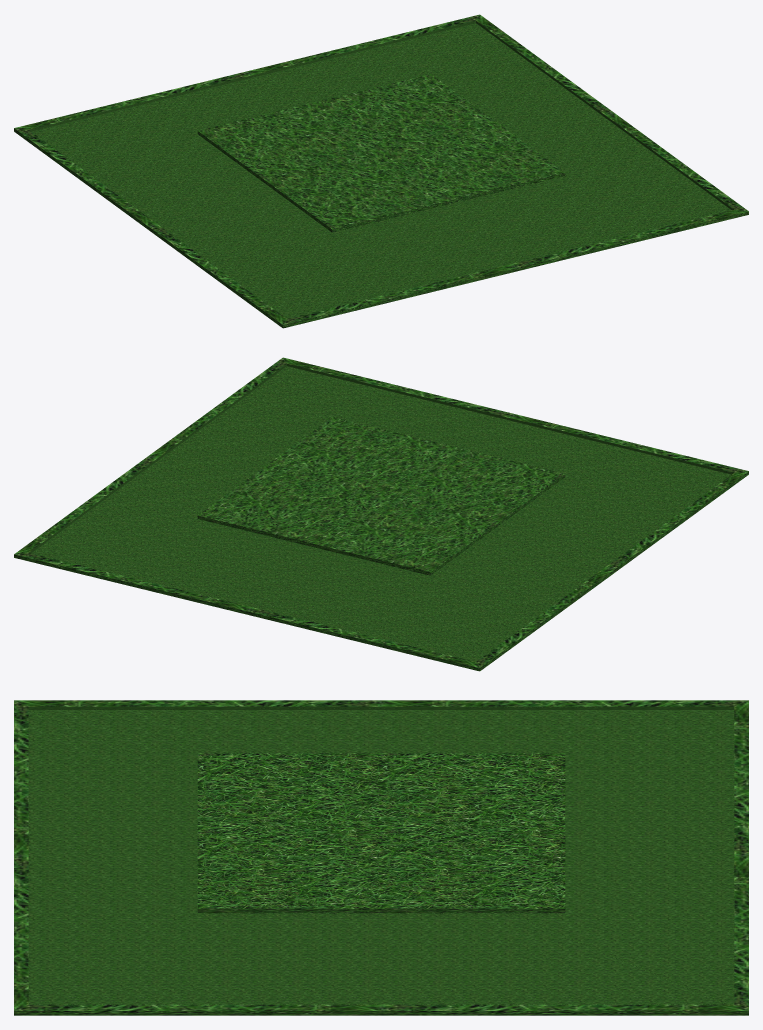
The model's file is flat.gltf.
3 views of the same model, one above another, from view 1: azimuth 30°, elevation 25°; view 2: azimuth 150°, elevation 25°; view 3: azimuth 270°, elevation 25° (orthographic). The views are drawn at different scales.
Parts seen in each view (by area): view 1: Cube.001, Cube.002; view 2: Cube.001, Cube.002; view 3: Cube.001, Cube.002.
Part boxes in pixels (x1=…): Cube.001: x1=14, y1=14, x2=748, y2=328; Cube.002: x1=197, y1=74, x2=565, y2=232; Cube.001: x1=14, y1=357, x2=748, y2=671; Cube.002: x1=197, y1=417, x2=565, y2=575; Cube.001: x1=14, y1=700, x2=748, y2=1015; Cube.002: x1=197, y1=753, x2=565, y2=913.
Size of the model in its own units: 500 by 22 by 500.
Materials: 2 (2 with a texture image).
